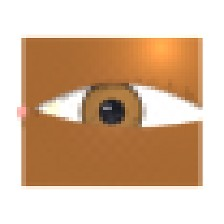pinguecula_lesion: (39, 97, 70, 121)
